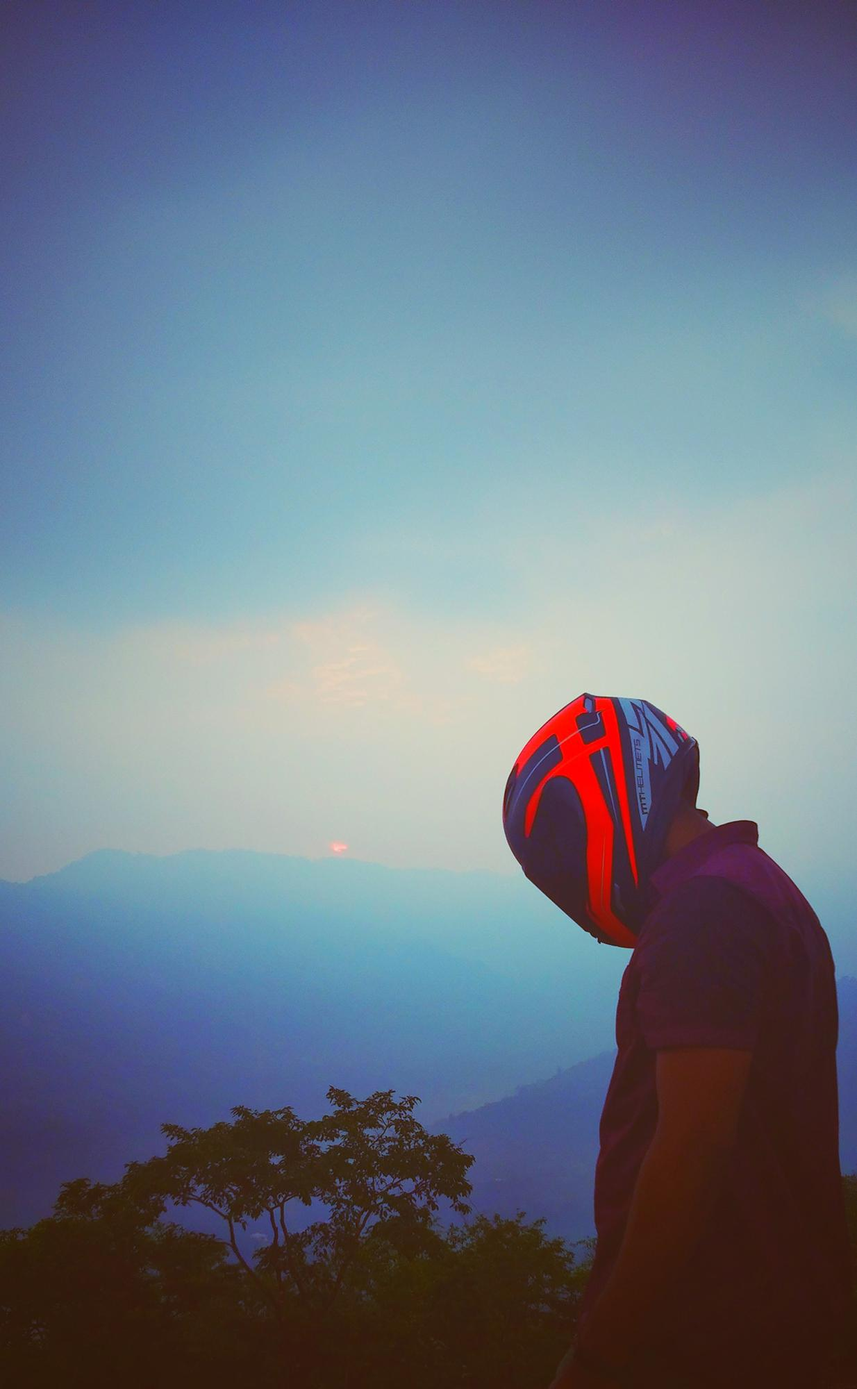helmet: (500, 691, 702, 951)
